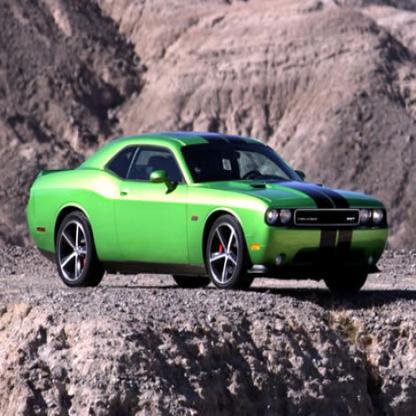car: (27, 133, 388, 289)
